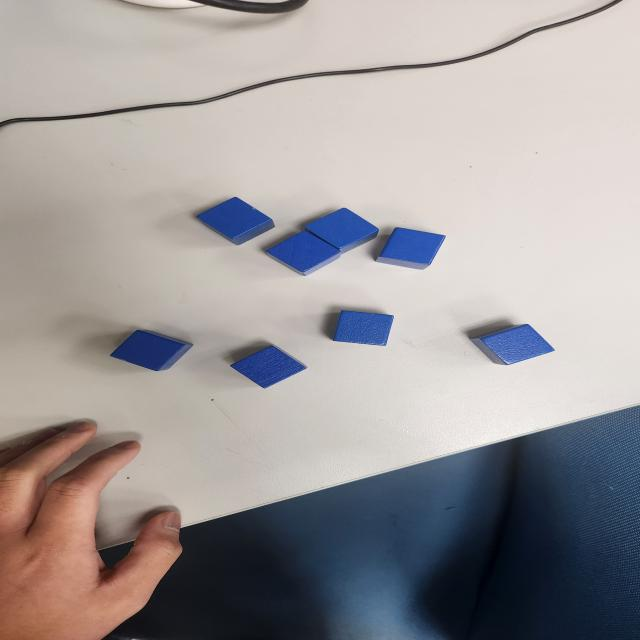blue: (194, 196, 276, 246), (468, 323, 556, 366), (110, 329, 194, 372), (264, 230, 342, 276), (229, 345, 309, 389), (304, 207, 380, 253), (374, 227, 446, 269), (332, 310, 395, 346)
